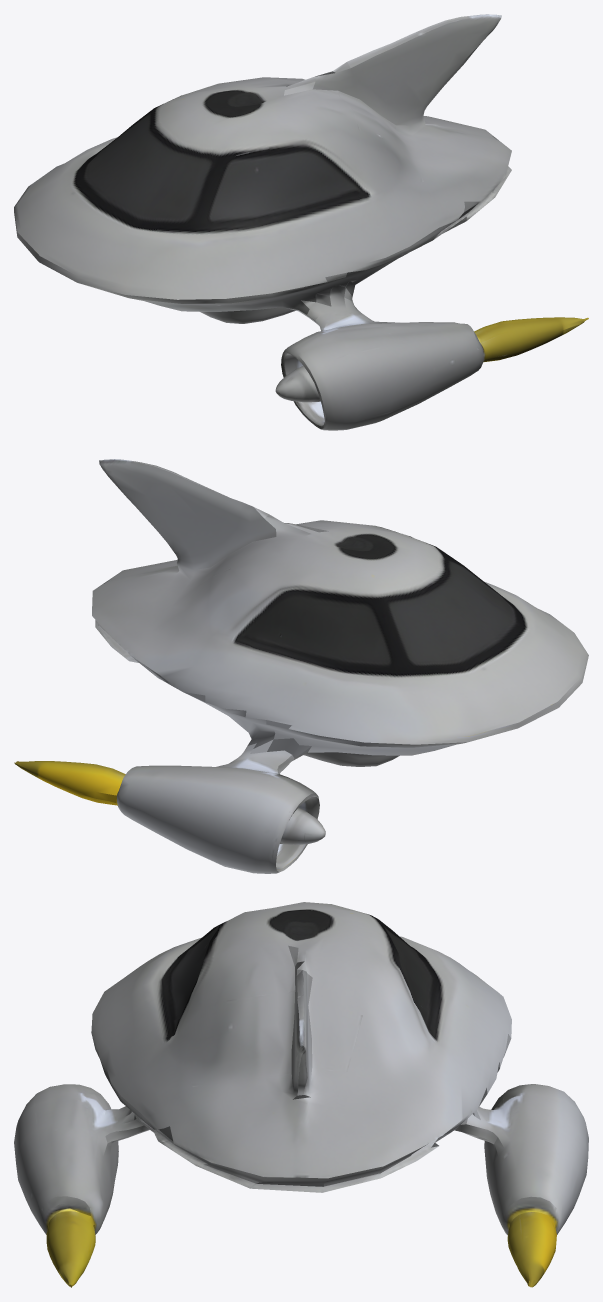
Rendered from car_fly_fixed.glb.
3 renders of one model, top to bottom at view 1: azimuth 30°, elevation 25°; view 2: azimuth 150°, elevation 25°; view 3: azimuth 270°, elevation 25°, orthographic. The views are drawn at different scales.
Parts seen in each view (by area): view 1: Mesh0; view 2: Mesh0; view 3: Mesh0.
Boxes of the visible parts, <box> form: Mesh0: <box>14,14,588,430</box>; Mesh0: <box>14,459,588,873</box>; Mesh0: <box>14,902,588,1287</box>.
Size of the model in its own units: 1.9 by 1.08 by 1.82.
1 material, 1 textured.
